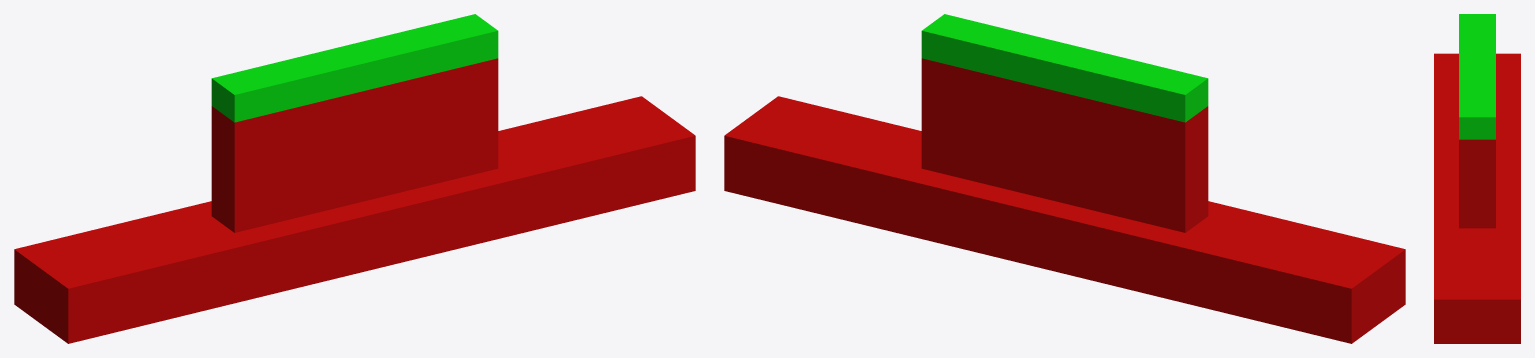
File: circuits-ConductorGreen.glb
The picture shows the model from 3 angles, left to right: view 1: azimuth 30°, elevation 25°; view 2: azimuth 150°, elevation 25°; view 3: azimuth 270°, elevation 25°; orthographic projection. The views are drawn at different scales.
Visible parts, largest first — view 1: models-ConductorGreen; view 2: models-ConductorGreen; view 3: models-ConductorGreen.
Boxes of the visible parts, <box> form: models-ConductorGreen: <box>14,14,695,343</box>; models-ConductorGreen: <box>724,14,1405,343</box>; models-ConductorGreen: <box>1434,14,1520,343</box>.
Bounding box in the file's own units: 0.0952 × 0.028 × 0.0142.
